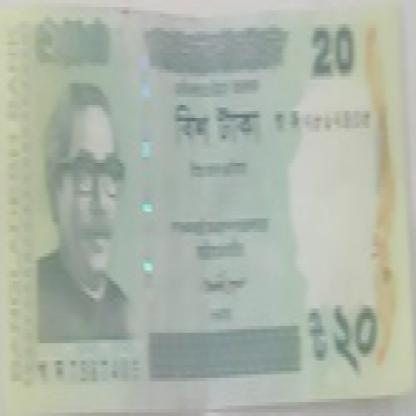Twenty: (306, 295, 390, 378), (301, 17, 366, 90), (34, 18, 102, 84)
